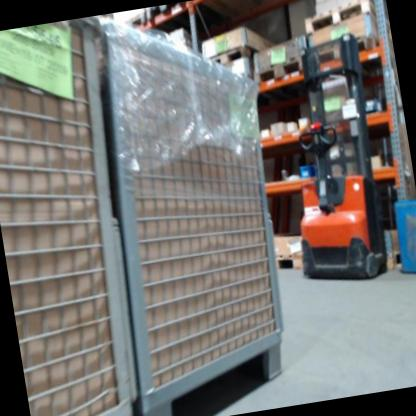pallet: (300, 0, 390, 45), (307, 26, 391, 69), (248, 47, 313, 94), (198, 38, 274, 68), (273, 245, 310, 276), (148, 3, 191, 21), (380, 245, 410, 267), (120, 10, 147, 29)
pallet_truck: (264, 23, 401, 289)
small_load_carrier: (298, 161, 321, 179)
stillage: (86, 0, 306, 416), (0, 24, 141, 416)
